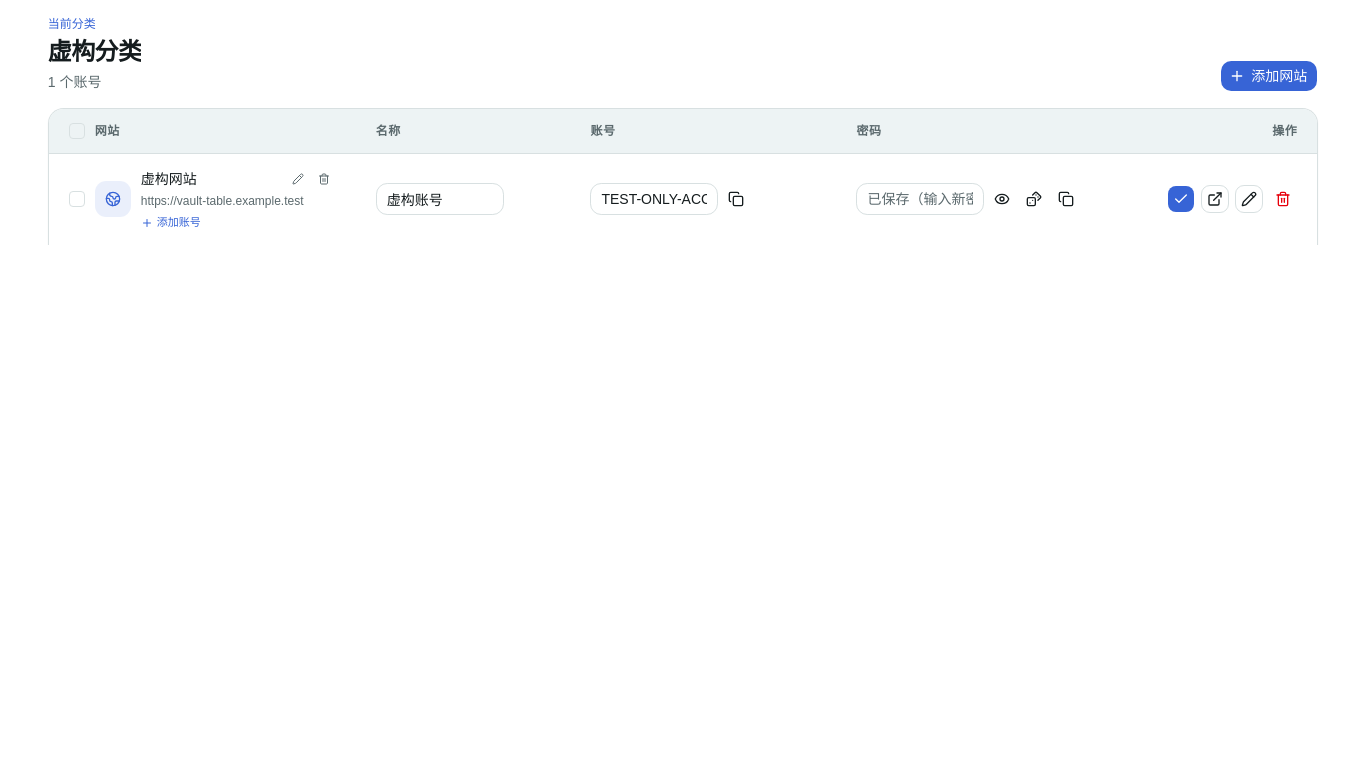
Test: VaultTable account grouping › fills a generated password hidden without saving the account
What coordinates should you click on to do the following:
click the button named "生成密码"
I would click on:
 (1034, 199)
Its box is [1020,185,1048,213].
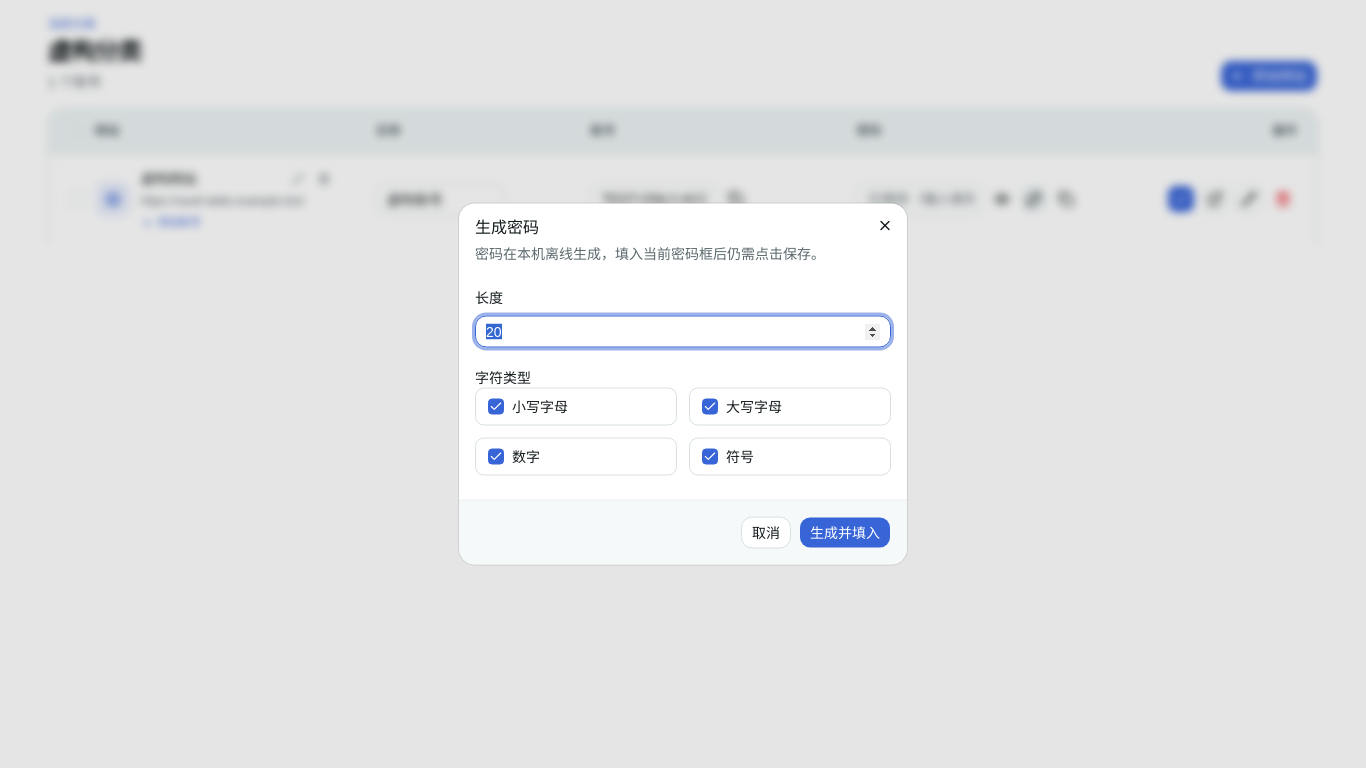
Check: the dialog "生成密码" is shown, box [459,204,907,564]
Check: the number field labelled "长度" holds "20", box [475,316,891,348]
What coordinates should you click on to do the following:
click the button "生成并填入"
I would click on:
 (845, 532)
Its box is [799,516,891,548].
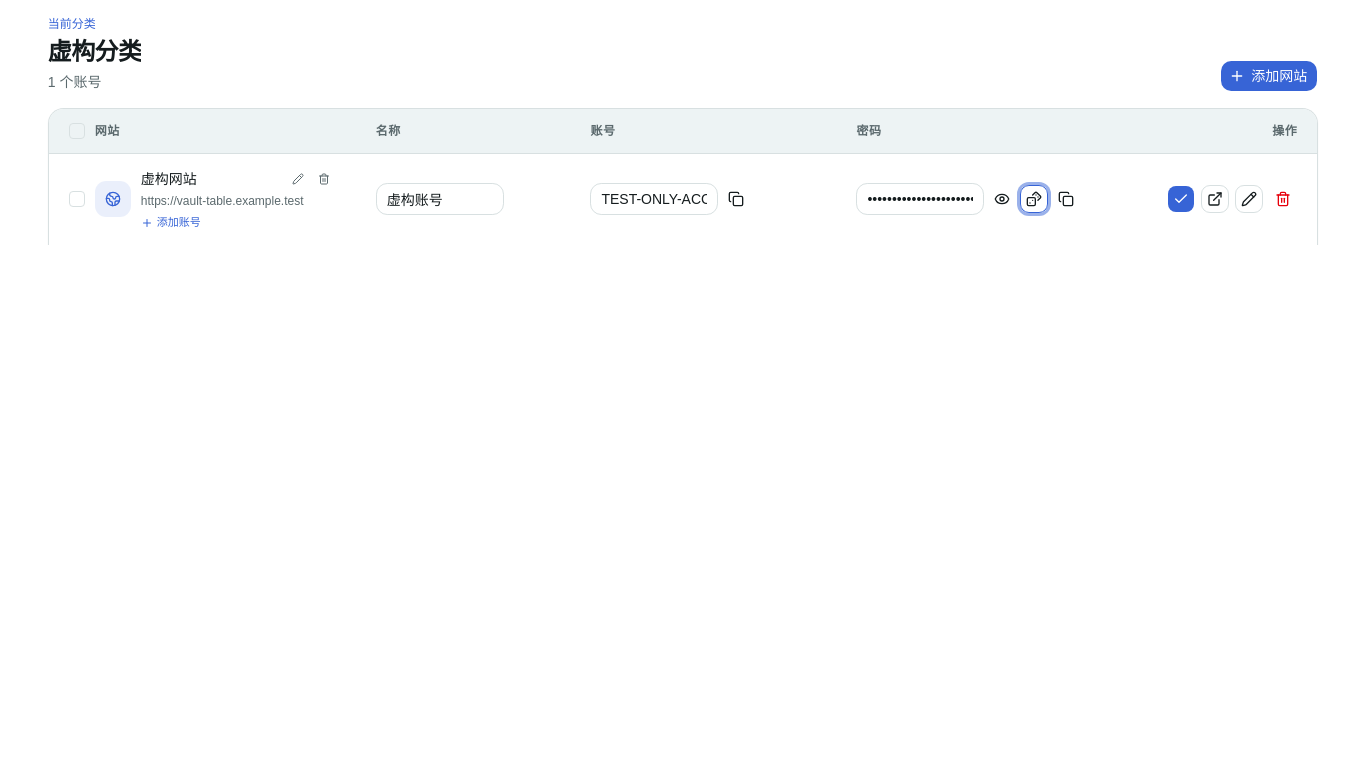
Check: the password field named "虚构网站 的密码" holds "A7!generated-test-value", box [856,183,984,215]
